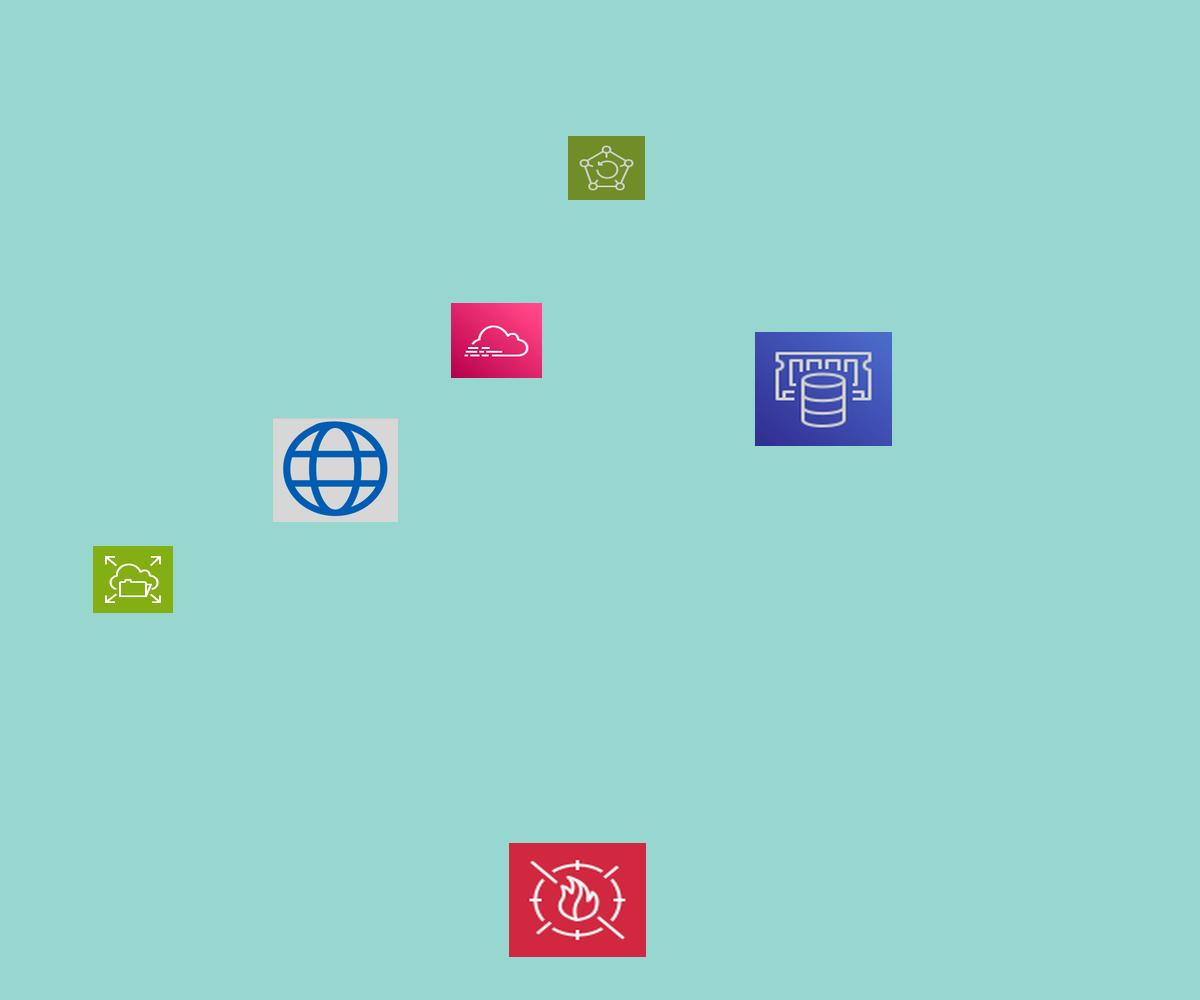AWS-Backup: (568, 136, 645, 200)
AWS-CloudTrail: (451, 303, 542, 378)
AWS-EFS: (93, 546, 173, 613)
AWS-ElastiCache: (755, 332, 892, 446)
AWS-WAF: (509, 843, 646, 957)
Azure_http: (273, 418, 398, 522)
